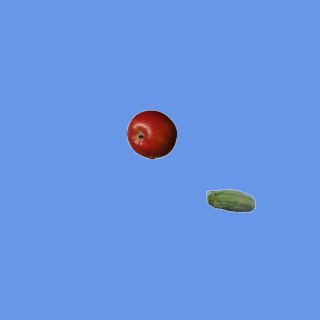Apple Braeburn: (126, 109, 176, 159)
Corn Husk: (205, 177, 255, 227)
